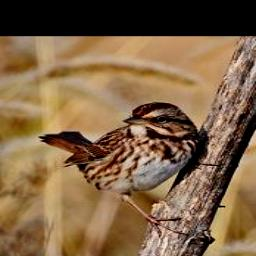Sparrow: (35, 100, 205, 237)
